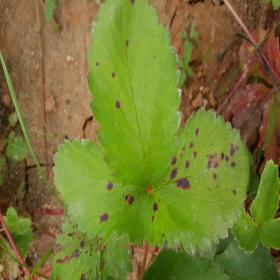Leaf Spot: (86, 0, 183, 190), (143, 107, 250, 258), (52, 137, 148, 249), (50, 218, 134, 279)
